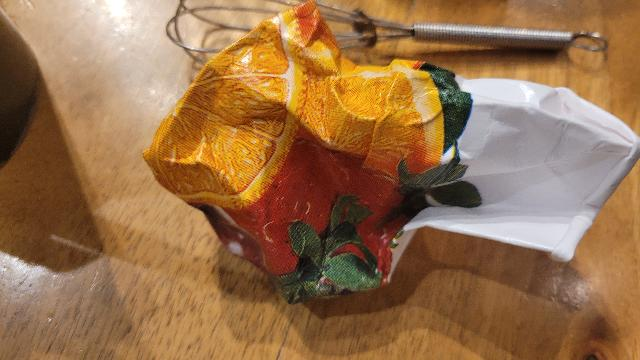Plastik: (142, 23, 639, 310)
